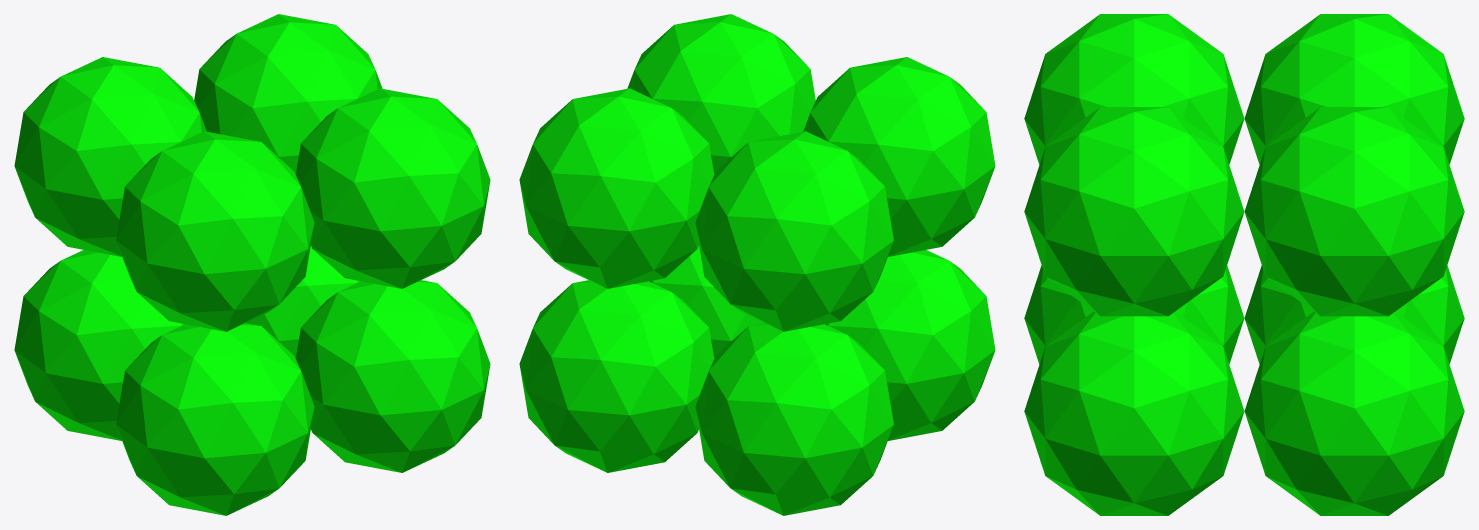
The model's file is peas.glb.
3 renders of one model, left to right at view 1: azimuth 30°, elevation 25°; view 2: azimuth 150°, elevation 25°; view 3: azimuth 270°, elevation 25°, orthographic. The views are drawn at different scales.
Visible parts, largest first — view 1: Icosphere.002, Icosphere.006, Icosphere, Icosphere.005, Icosphere.001, Icosphere.004, Icosphere.008, Icosphere.003; view 2: Icosphere.001, Icosphere.004, Icosphere.008, Icosphere.003, Icosphere.002, Icosphere.006, Icosphere, Icosphere.005; view 3: Icosphere, Icosphere.008, Icosphere.003, Icosphere.005, Icosphere.001, Icosphere.002, Icosphere.004, Icosphere.006.
Part boxes in pixels (x1,y1,x2,y2): Icosphere.002: (116, 131, 314, 331); Icosphere.006: (116, 323, 314, 515); Icosphere: (295, 88, 490, 288); Icosphere.005: (295, 280, 490, 472); Icosphere.001: (14, 57, 206, 256); Icosphere.004: (14, 250, 184, 440); Icosphere.008: (194, 14, 382, 174); Icosphere.003: (246, 246, 360, 358); Icosphere.001: (695, 131, 893, 331); Icosphere.004: (695, 323, 893, 515); Icosphere.008: (519, 88, 714, 288); Icosphere.003: (519, 280, 714, 472); Icosphere.002: (803, 57, 995, 256); Icosphere.006: (825, 250, 995, 440); Icosphere: (627, 14, 815, 174); Icosphere.005: (649, 246, 763, 358); Icosphere: (1024, 107, 1244, 316); Icosphere.008: (1244, 107, 1464, 316); Icosphere.003: (1244, 311, 1464, 515); Icosphere.005: (1024, 311, 1244, 515); Icosphere.001: (1244, 14, 1464, 164); Icosphere.002: (1024, 14, 1244, 164); Icosphere.004: (1244, 265, 1464, 364); Icosphere.006: (1024, 265, 1244, 364).
Size of the model in its own units: 3.9 by 4 by 4.
